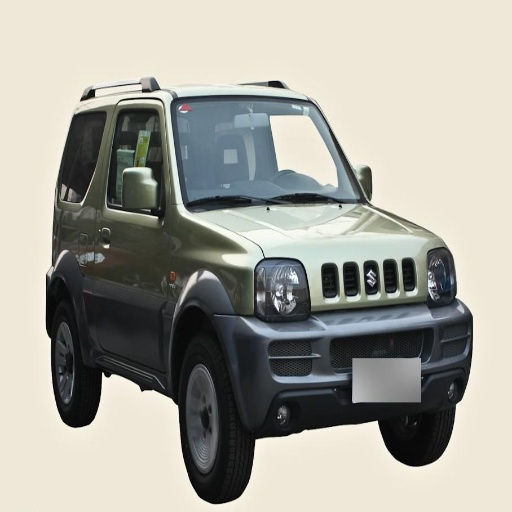front_bumper: (218, 248, 473, 430)
front_left_light: (429, 247, 458, 301)
front_right_door: (95, 102, 167, 364)
front_right_light: (250, 261, 305, 321)
hood: (189, 203, 442, 264)
